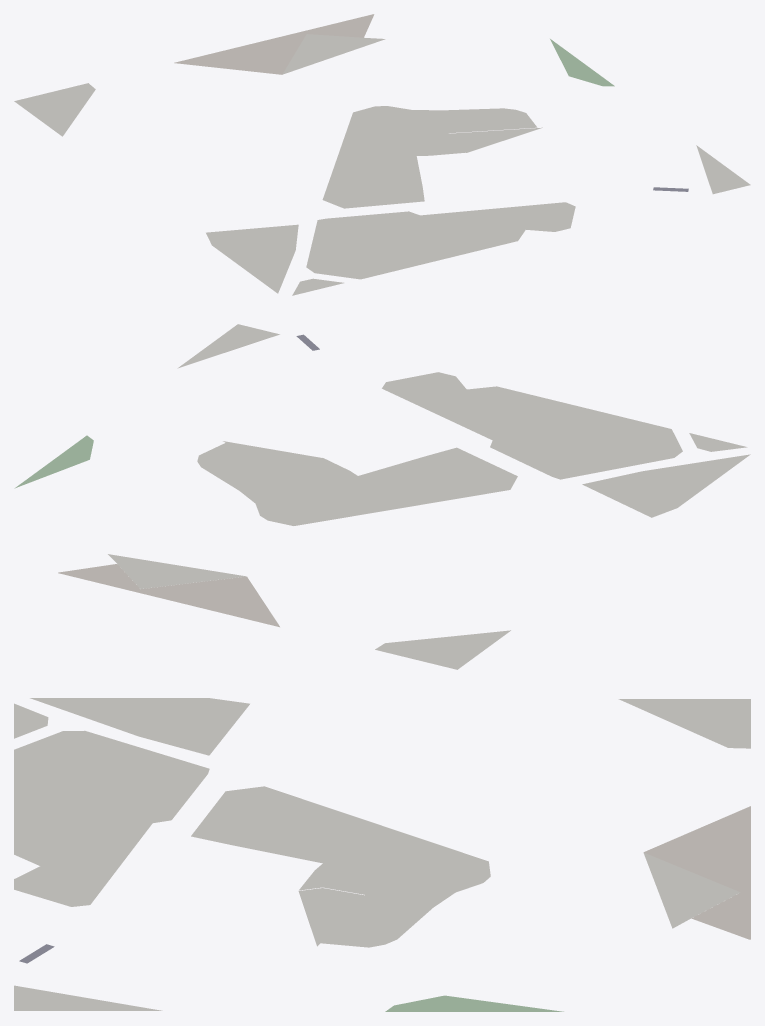
Rendered from 108_115_mid.glb.
The picture shows the model from 3 angles, top to bottom: view 1: azimuth 30°, elevation 25°; view 2: azimuth 150°, elevation 25°; view 3: azimuth 270°, elevation 25°; orthographic projection. The views are drawn at different scales.
Bounding box in the file's own units: 500 × 7.75 × 500.
